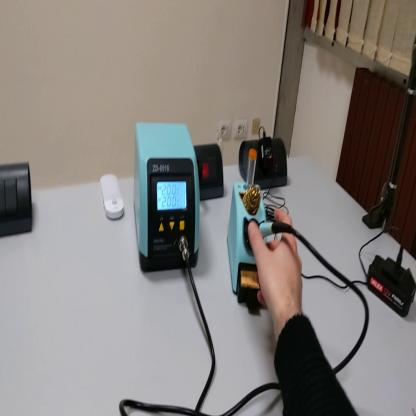electric screwdriver battery: (367, 251, 416, 321)
hand: (247, 211, 305, 321)
socket: (238, 135, 290, 195), (193, 139, 226, 205)
welder base: (230, 145, 269, 315)
welder probe tip: (248, 221, 292, 241)
welder station: (134, 122, 200, 275)
